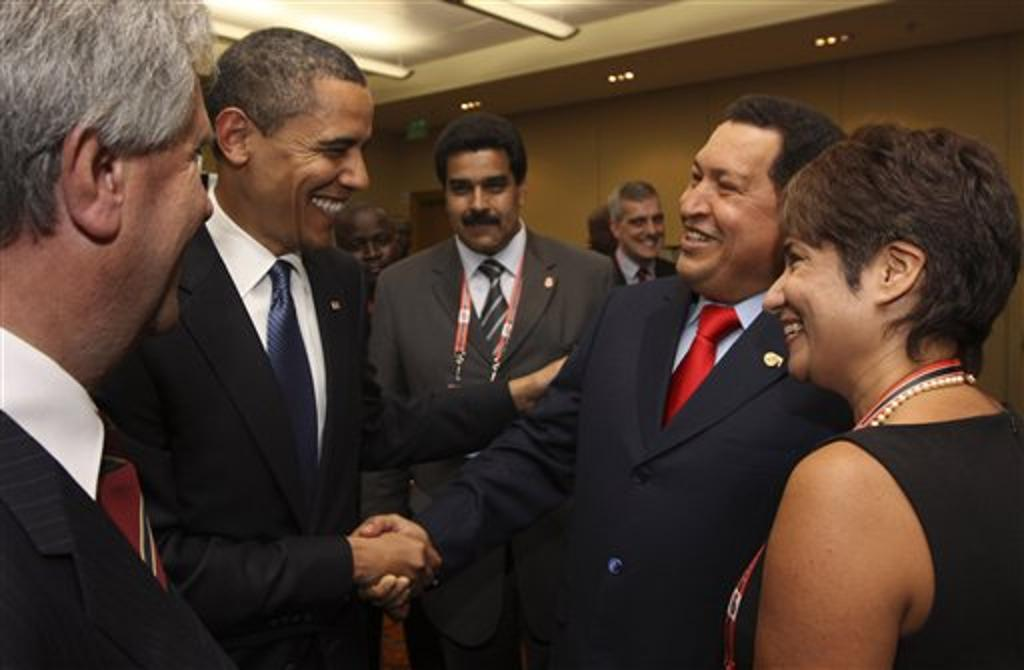face: (62, 94, 218, 329), (249, 104, 375, 248), (764, 220, 871, 375), (676, 144, 784, 277), (448, 159, 514, 250), (345, 224, 395, 286), (619, 204, 662, 259)
